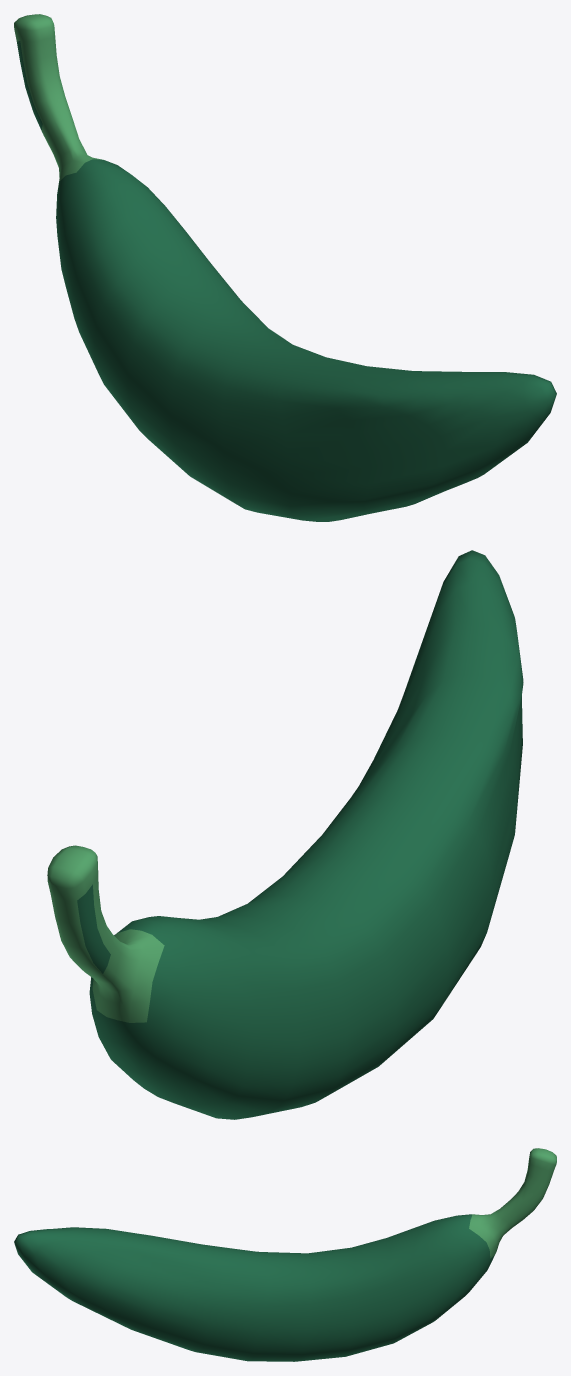
The model's file is Chilli_06.dae.
The picture shows the model from 3 angles, top to bottom: view 1: azimuth 30°, elevation 25°; view 2: azimuth 150°, elevation 25°; view 3: azimuth 270°, elevation 25°; orthographic projection. The views are drawn at different scales.
Visible parts, largest first — view 1: Chilli_06_LOD0; view 2: Chilli_06_LOD0; view 3: Chilli_06_LOD0.
Boxes of the visible parts, left/top/right/bottom form: Chilli_06_LOD0: left=14, top=14, right=556, bottom=521; Chilli_06_LOD0: left=47, top=550, right=523, bottom=1119; Chilli_06_LOD0: left=14, top=1148, right=556, bottom=1361.
Size of what is drawn, in the model's own units: 1.24 by 5.42 by 2.26.
